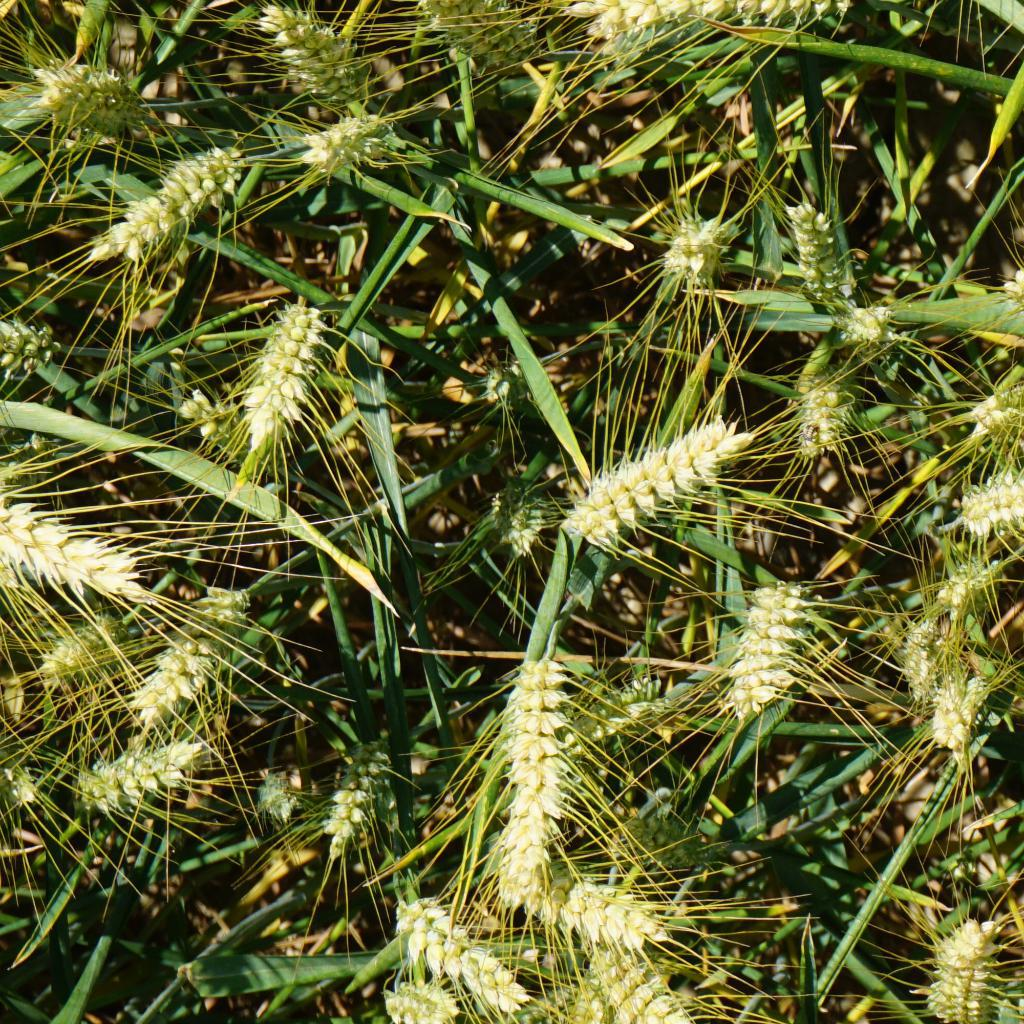0-0: (85, 136, 247, 271), (489, 649, 576, 897), (584, 420, 745, 534), (391, 892, 530, 1009), (574, 0, 884, 52), (250, 0, 388, 111), (135, 587, 241, 731), (510, 856, 668, 947), (240, 294, 338, 439), (0, 499, 140, 594), (557, 671, 686, 762), (318, 726, 409, 851), (24, 54, 156, 139), (608, 801, 733, 885), (927, 907, 1012, 1024), (728, 568, 799, 707), (73, 745, 200, 819), (398, 0, 533, 68), (162, 385, 267, 470), (297, 103, 396, 189), (594, 940, 687, 1024), (782, 192, 854, 297), (648, 192, 729, 285), (787, 384, 867, 473), (923, 667, 998, 759), (45, 610, 113, 698), (931, 550, 1002, 623), (476, 347, 551, 414), (960, 459, 1024, 533), (899, 604, 954, 687), (836, 301, 900, 361), (964, 376, 1024, 439), (244, 776, 305, 830), (0, 312, 54, 372), (504, 483, 550, 547), (385, 981, 451, 1024), (0, 755, 41, 820), (988, 261, 1024, 320)
